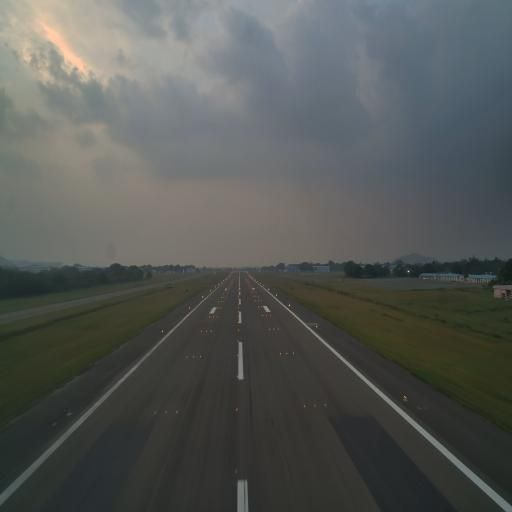off: (66, 409, 72, 419), (234, 468, 239, 477)
on: (403, 393, 407, 402), (303, 402, 307, 410), (313, 402, 317, 410), (236, 372, 240, 380), (174, 409, 179, 415), (154, 409, 158, 416), (234, 407, 238, 414), (164, 408, 168, 414), (324, 402, 328, 408), (236, 350, 239, 358), (184, 354, 188, 360), (292, 350, 296, 356), (192, 353, 195, 360), (199, 353, 202, 360), (285, 352, 288, 358), (279, 351, 281, 357)
